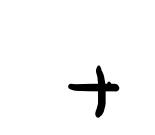plus: (68, 65, 119, 118)
